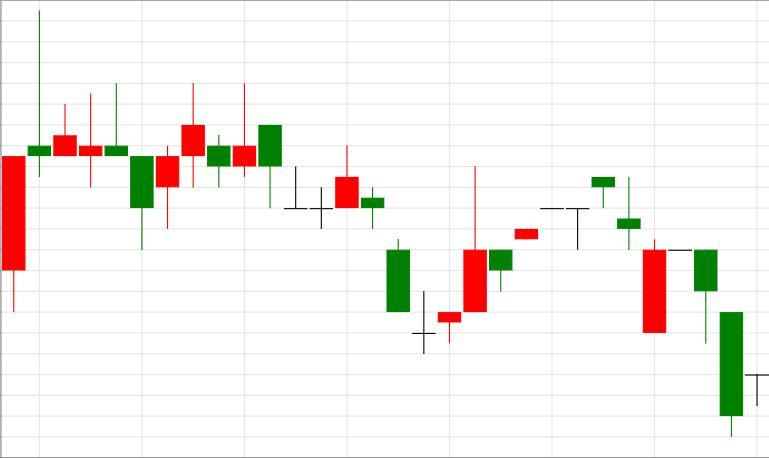hammer_rise: (592, 177, 717, 344)
